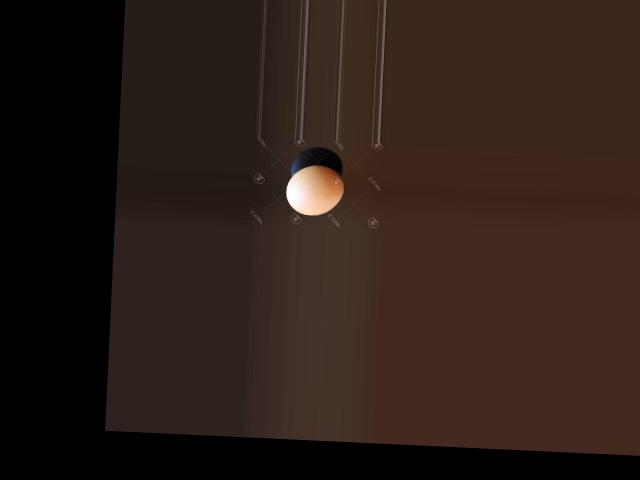egg: (285, 163, 345, 216)
